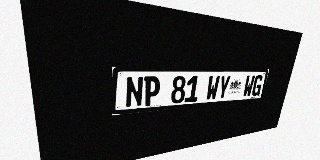1: (184, 76, 200, 102)
8: (170, 76, 187, 104)
G: (251, 75, 264, 96)
N: (125, 76, 144, 108)
P: (143, 76, 161, 106)
W: (205, 75, 220, 101), (242, 75, 255, 97)
Y: (217, 75, 231, 100)
